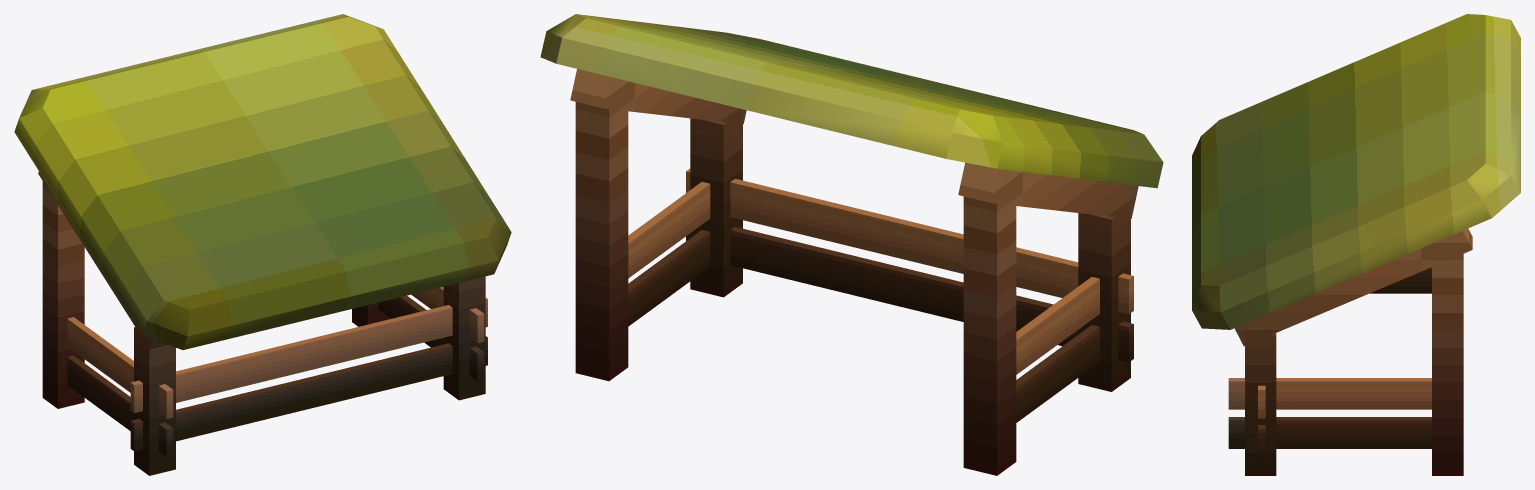
The model's file is simple_low_poly_farm_house_lvl1.glb.
3 views of the same model, side by side, from view 1: azimuth 30°, elevation 25°; view 2: azimuth 150°, elevation 25°; view 3: azimuth 270°, elevation 25° (orthographic). The views are drawn at different scales.
Parts seen in each view (by area): view 1: farm_house_lvl1_Material #25_0; view 2: farm_house_lvl1_Material #25_0; view 3: farm_house_lvl1_Material #25_0.
Part boxes in pixels (box(x1,y1,x2,y2)): farm_house_lvl1_Material #25_0: box(14, 14, 511, 475); farm_house_lvl1_Material #25_0: box(540, 14, 1163, 475); farm_house_lvl1_Material #25_0: box(1192, 14, 1520, 475).
Bounding box in the file's own units: 2.74 × 2.12 × 2.09.
1 material, 1 textured.
